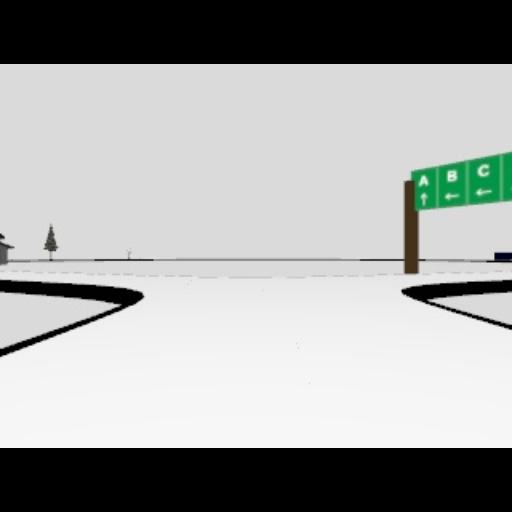A: (418, 174, 430, 186)
B: (446, 170, 458, 182)
C: (478, 164, 490, 176)
Left: (474, 188, 492, 196), (443, 192, 459, 200)
Straight: (420, 192, 428, 206)
